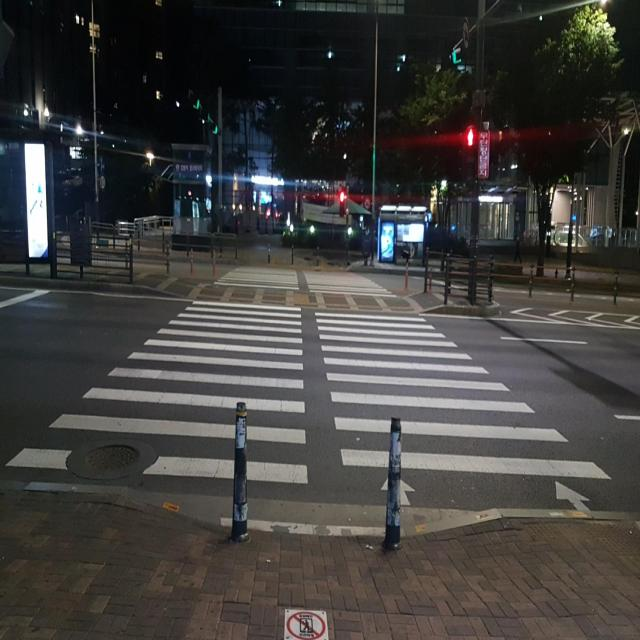빨간불: (464, 129, 476, 172), (339, 190, 345, 218)
횡단보도: (3, 296, 614, 513)
